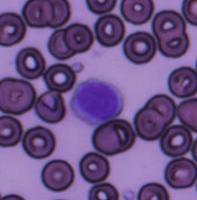L: (68, 77, 122, 125)
